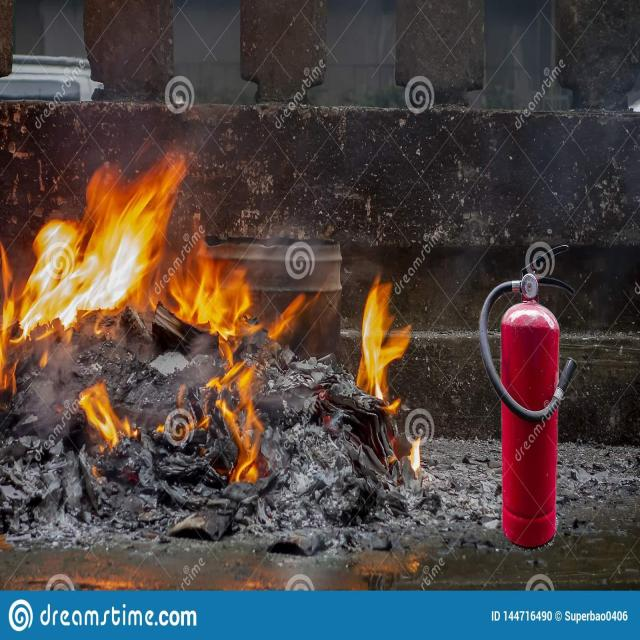fire_extinguisher: (472, 233, 578, 556)
